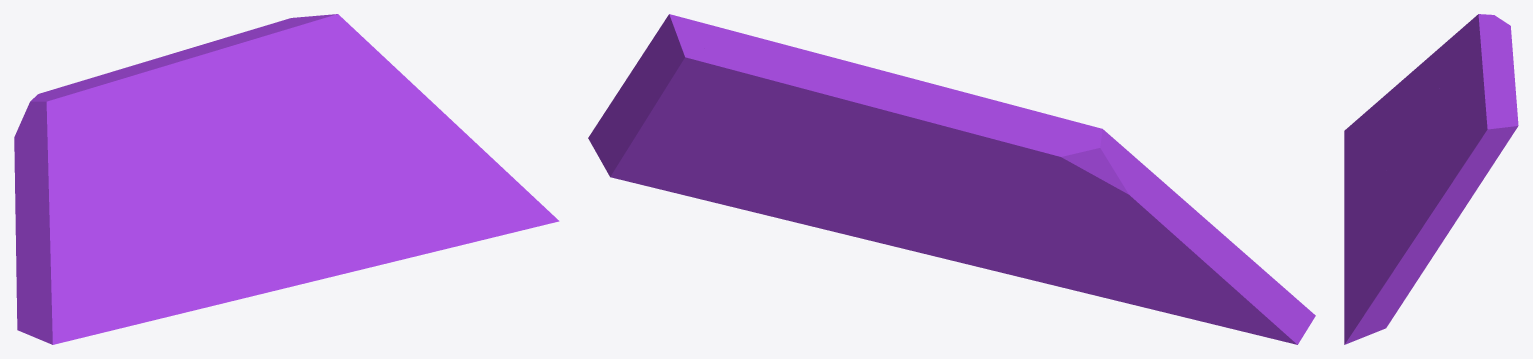
The model's file is Window_132_1_chunks.fbx.
3 views of the same model, side by side, from view 1: azimuth 30°, elevation 25°; view 2: azimuth 150°, elevation 25°; view 3: azimuth 270°, elevation 25° (orthographic). The views are drawn at different scales.
Parts seen in each view (by area): view 1: Window_132_1_3, Window_132_1_1, Window_132_1_15, Window_132_1_9, Window_132_1_5, Window_132_1_4, Window_132_1_17, Window_132_1_19, Window_132_1_11, Window_132_1_7, Window_132_1_16, Window_132_1_20 (+6 smaller); view 2: Window_132_1_1, Window_132_1_9, Window_132_1_15, Window_132_1_6, Window_132_1_2, Window_132_1_7, Window_132_1_16, Window_132_1_17, Window_132_1_10, Window_132_1_12, Window_132_1_19, Window_132_1_4 (+7 smaller); view 3: Window_132_1_15, Window_132_1_16, Window_132_1_9, Window_132_1_3, Window_132_1_1, Window_132_1_17, Window_132_1_7, Window_132_1_5, Window_132_1_4, Window_132_1_19, Window_132_1_11, Window_132_1_20 (+7 smaller).
Part boxes in pixels (bbox=[...]): Window_132_1_3: bbox=[42, 201, 228, 344]; Window_132_1_1: bbox=[14, 135, 125, 340]; Window_132_1_15: bbox=[353, 118, 559, 234]; Window_132_1_9: bbox=[108, 27, 266, 131]; Window_132_1_5: bbox=[209, 66, 324, 197]; Window_132_1_4: bbox=[80, 139, 222, 215]; Window_132_1_17: bbox=[268, 20, 357, 162]; Window_132_1_19: bbox=[362, 184, 504, 261]; Window_132_1_11: bbox=[219, 173, 302, 292]; Window_132_1_7: bbox=[14, 79, 137, 144]; Window_132_1_16: bbox=[283, 14, 448, 118]; Window_132_1_20: bbox=[291, 191, 385, 258]; Window_132_1_1: bbox=[1053, 155, 1309, 344]; Window_132_1_9: bbox=[729, 42, 994, 160]; Window_132_1_15: bbox=[588, 76, 762, 192]; Window_132_1_6: bbox=[720, 38, 957, 219]; Window_132_1_2: bbox=[953, 207, 1126, 302]; Window_132_1_7: bbox=[988, 100, 1131, 195]; Window_132_1_16: bbox=[628, 14, 715, 134]; Window_132_1_17: bbox=[698, 26, 800, 168]; Window_132_1_10: bbox=[945, 115, 1054, 183]; Window_132_1_12: bbox=[818, 177, 920, 246]; Window_132_1_19: bbox=[674, 178, 808, 223]; Window_132_1_4: bbox=[953, 188, 1053, 232]; Window_132_1_15: bbox=[1344, 204, 1442, 344]; Window_132_1_16: bbox=[1416, 117, 1518, 241]; Window_132_1_9: bbox=[1440, 43, 1517, 115]; Window_132_1_3: bbox=[1344, 103, 1412, 204]; Window_132_1_1: bbox=[1365, 30, 1459, 112]; Window_132_1_17: bbox=[1404, 105, 1518, 206]; Window_132_1_7: bbox=[1445, 14, 1510, 72]; Window_132_1_5: bbox=[1402, 124, 1465, 184]; Window_132_1_4: bbox=[1397, 50, 1452, 156]; Window_132_1_19: bbox=[1344, 225, 1386, 321]; Window_132_1_11: bbox=[1344, 152, 1408, 228]; Window_132_1_20: bbox=[1350, 202, 1387, 265].
Bounding box in the file's own units: 1258 × 419 × 422.
